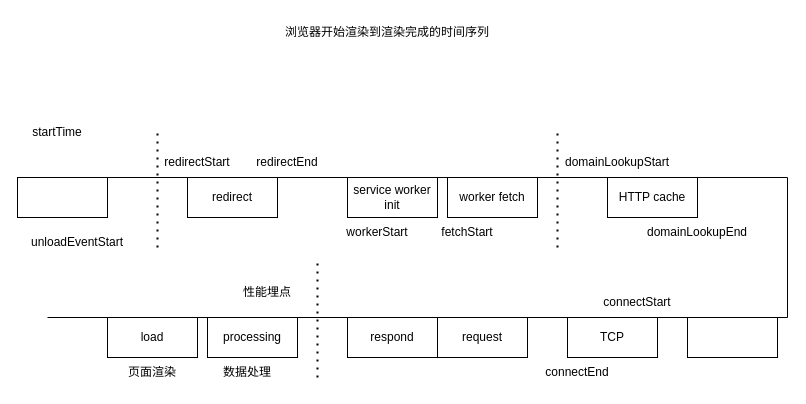
Image size: 806x404. Some labels were removed from this diagram. Each missing label, with the centre of its shape:
"DNS" goes at point (732, 337).
"进程解锁事件" goes at point (62, 197).
